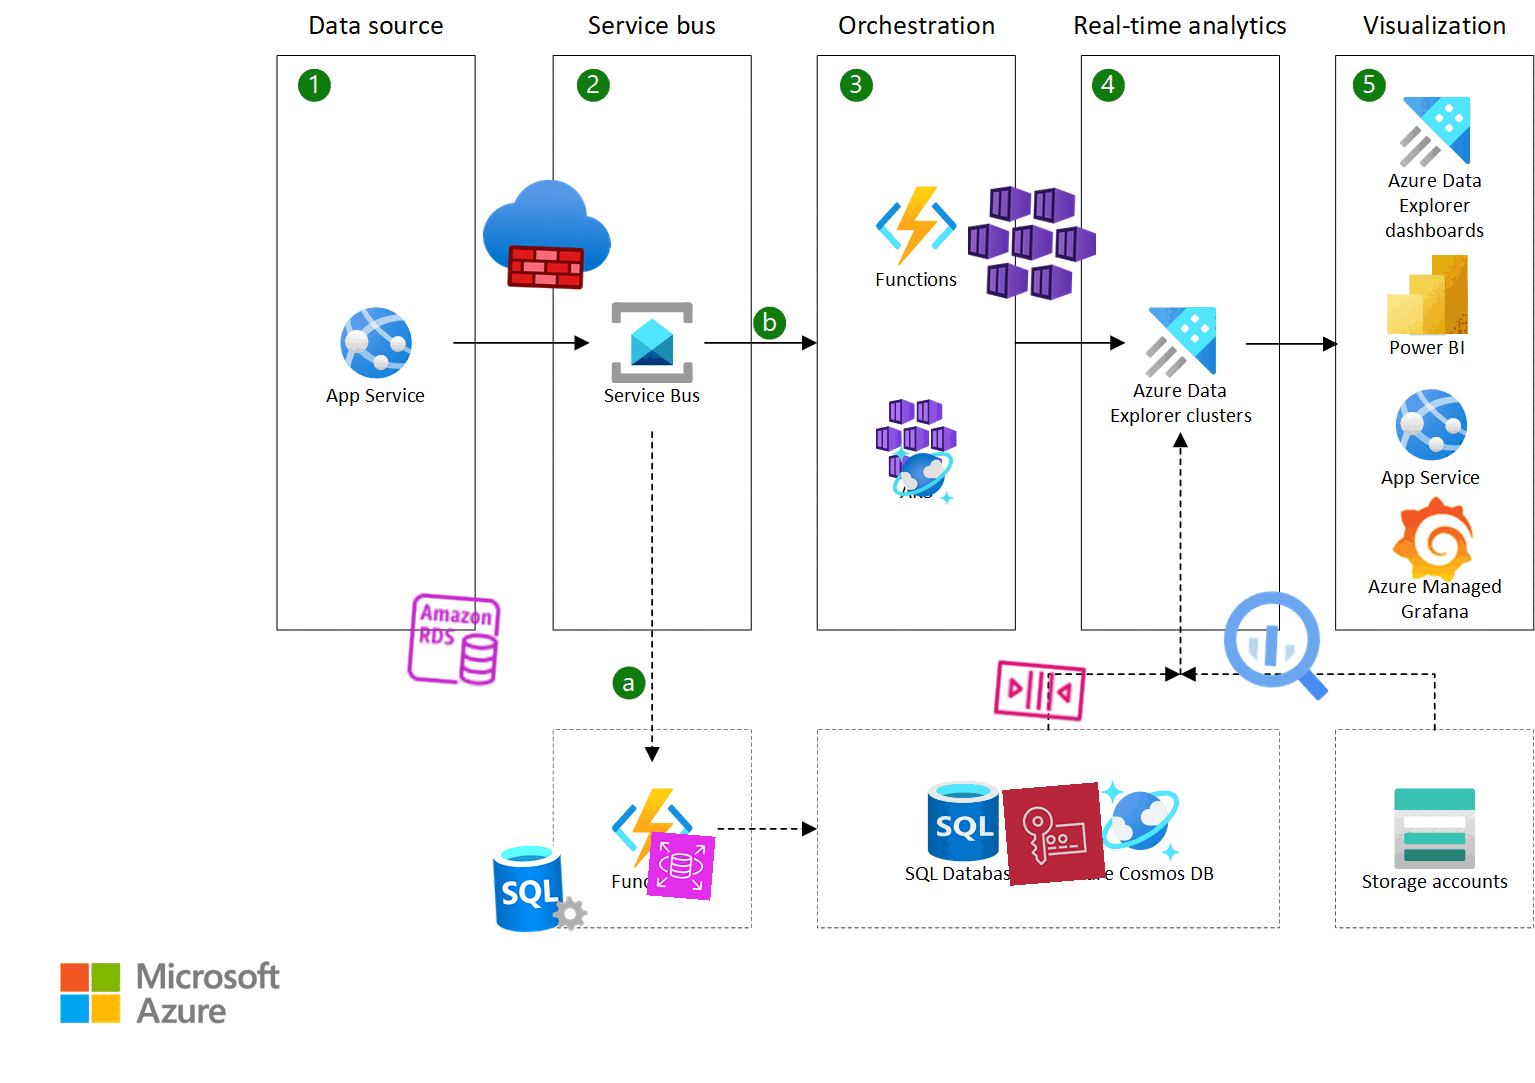aws_amazon_rds: (646, 831, 716, 901)
aws_aurora_amazon_rds_instance: (402, 588, 506, 692)
aws_key_management_service: (1002, 782, 1106, 886)
aws_simple_queue_service_queue: (988, 638, 1092, 742)
azure_cosmos_db: (891, 442, 956, 508)
azure_firewalls: (480, 166, 614, 301)
azure_kubernetes_services: (966, 176, 1098, 308)
azure_sql_server: (489, 836, 591, 938)
gcp_bigquery: (1210, 578, 1344, 711)
